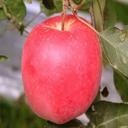apple: (21, 15, 103, 123)
